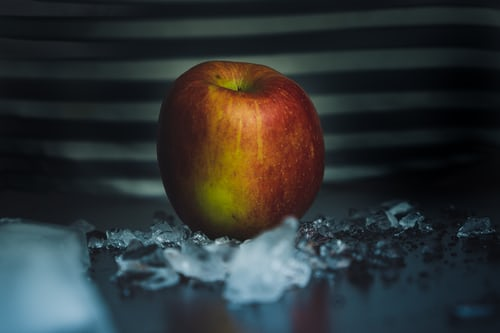apple: (155, 58, 328, 244)
